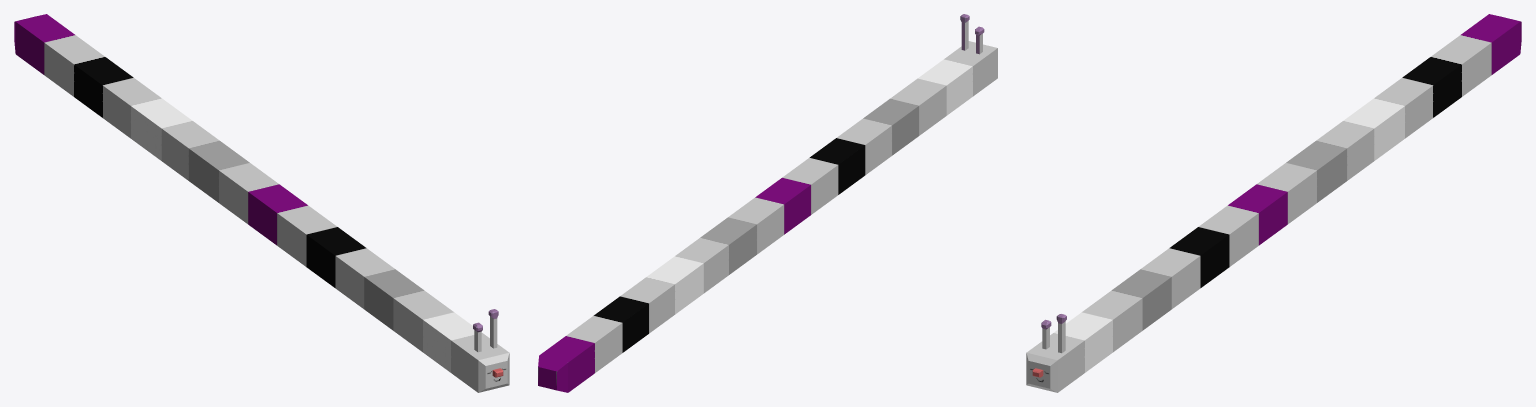
Rendered from aceworm.glb.
3 views of the same model, side by side, from view 1: azimuth 30°, elevation 25°; view 2: azimuth 150°, elevation 25°; view 3: azimuth 330°, elevation 25° (orthographic). The views are drawn at different scales.
Parts seen in each view (by area): view 1: Cube; view 2: Cube; view 3: Cube.
Boxes of the visible parts, bbox=[...] form: Cube: bbox=[14, 14, 509, 392]; Cube: bbox=[538, 14, 997, 392]; Cube: bbox=[1026, 14, 1521, 392].
Bounding box in the file's own units: 13.9 × 29.35 × 366.
1 material, 1 textured.
